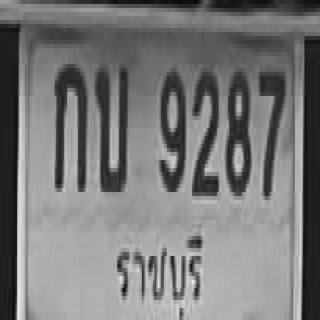A01: (53, 60, 86, 188)
A26: (94, 60, 128, 188)
N02: (190, 68, 217, 192)
N07: (258, 68, 284, 196)
N08: (225, 68, 250, 192)
N09: (158, 64, 184, 188)
P52: (113, 225, 205, 320)
